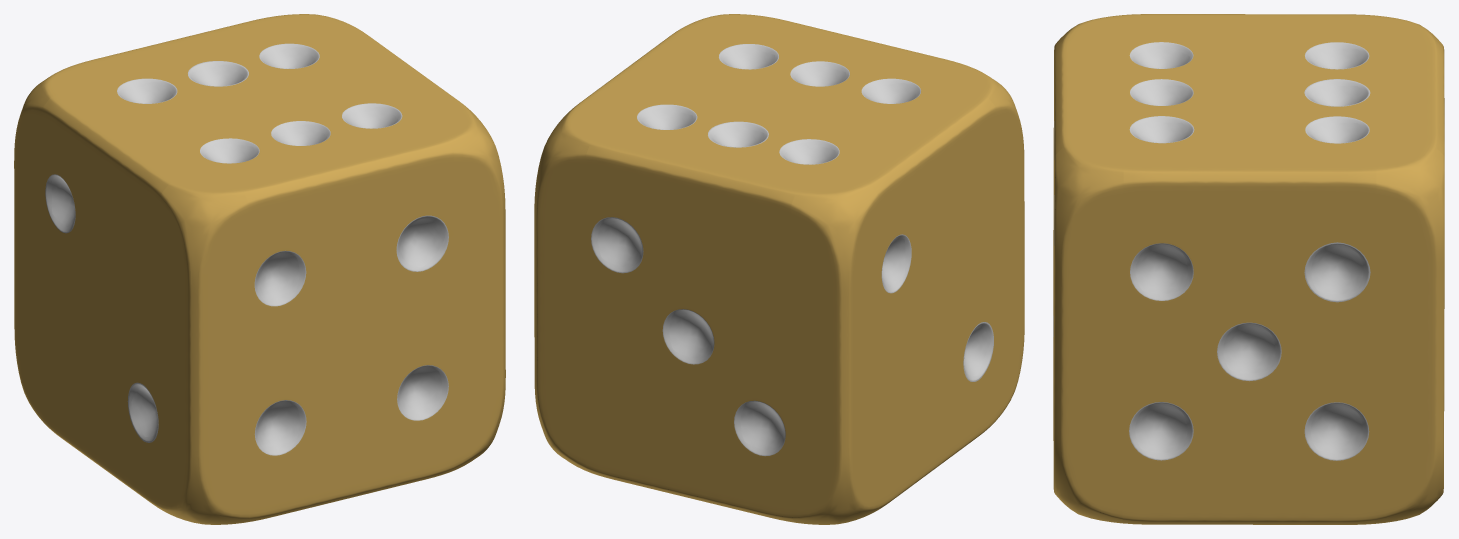
Rendered from My_Game Cube.fbx.
3 views of the same model, side by side, from view 1: azimuth 30°, elevation 25°; view 2: azimuth 150°, elevation 25°; view 3: azimuth 270°, elevation 25° (orthographic). The views are drawn at different scales.
Visible parts, largest first — view 1: Game_Cube; view 2: Game_Cube; view 3: Game_Cube.
Boxes of the visible parts, left/top/right/bottom form: Game_Cube: left=14, top=14, right=505, bottom=524; Game_Cube: left=534, top=14, right=1024, bottom=524; Game_Cube: left=1053, top=14, right=1444, bottom=524.
Bounding box in the file's own units: 200 × 201 × 201.
